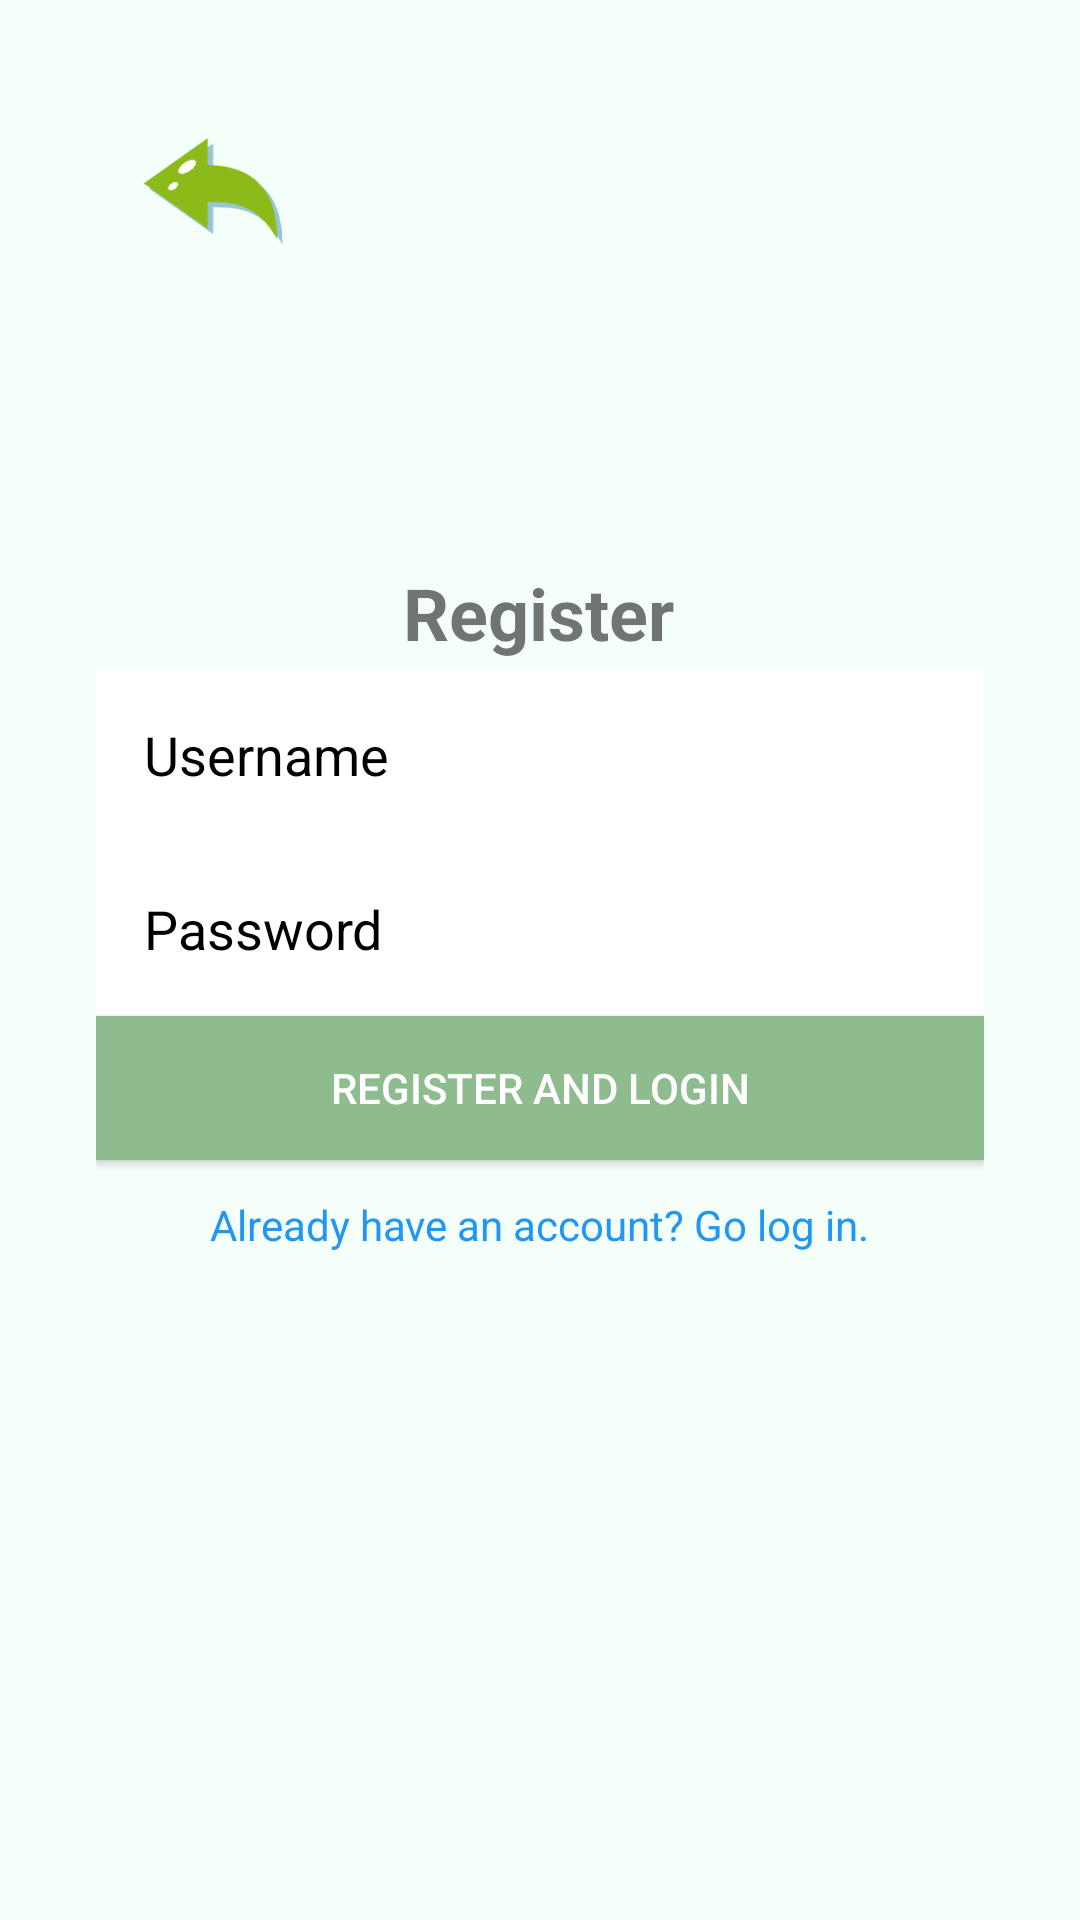

Screen size 1080 x 1920. Icon name, then its box in pixels as (x1, y1, x2, y2):
back: (143, 138, 283, 245)
